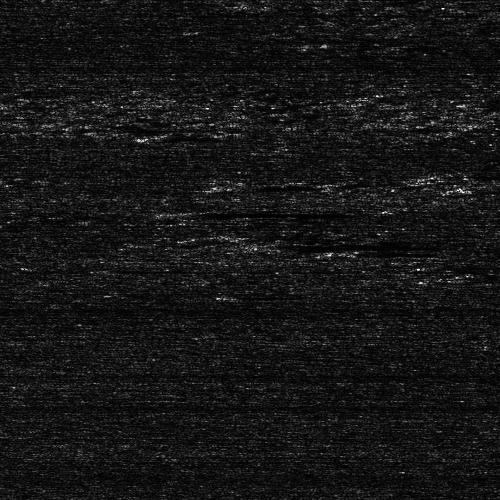object: (163, 238, 350, 253), (123, 207, 238, 220), (437, 178, 500, 193), (312, 249, 375, 256)
shadow: (257, 238, 438, 253), (181, 207, 312, 220), (344, 249, 437, 256), (479, 178, 500, 193)
